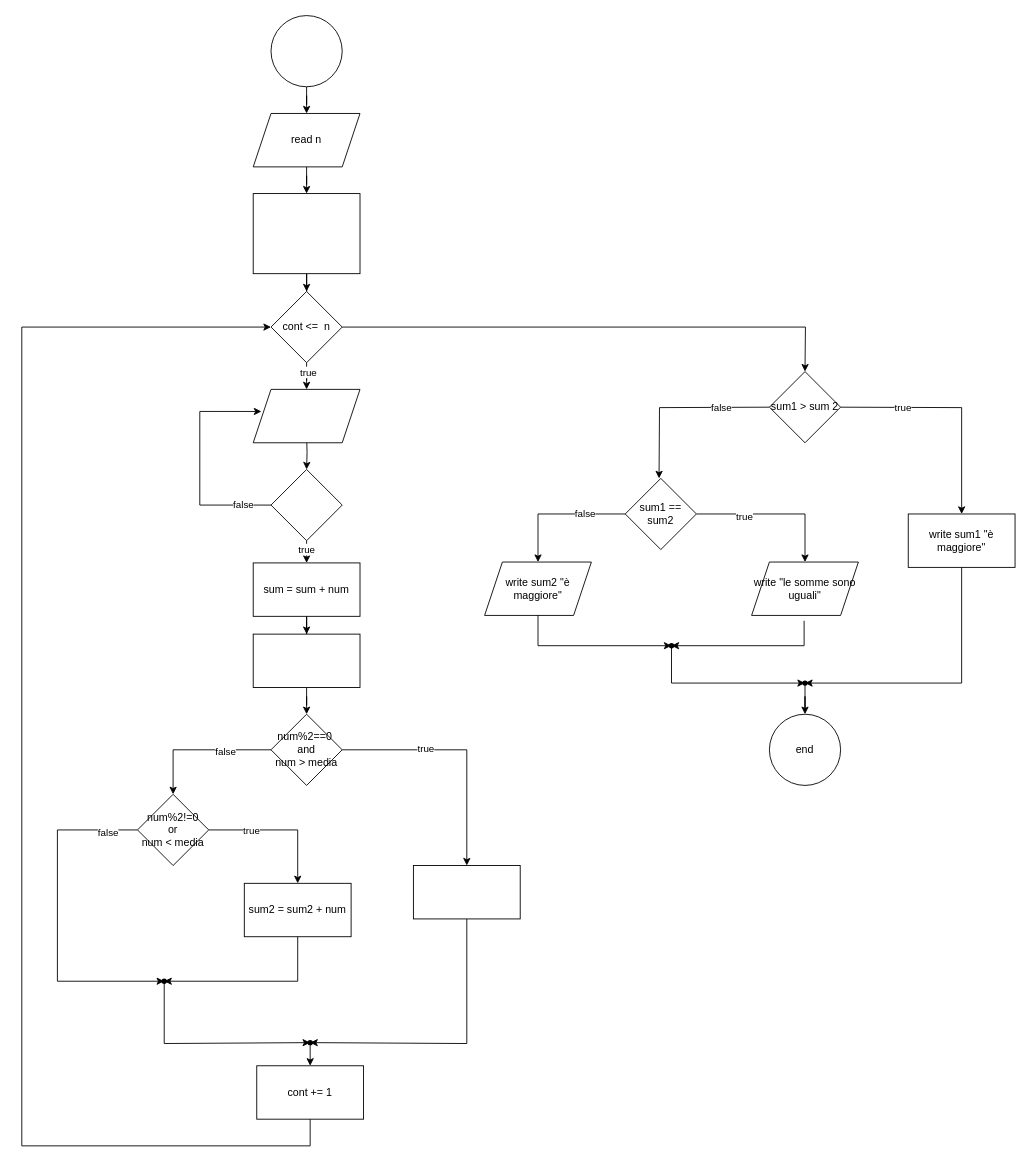
This 1031x1169 diagram has some shape labels left out. The shapes that lost their labels are listed below. From the top down, each one's centre as x and y in pixels, then its label:
point 306,51: start
point 306,233: cont = 1, sum = 0, sum1 = 0, sum2 = 0, media = 1
point 306,415: write num
point 306,505: num%1==0
point 306,660: media = num / cont
point 466,892: sum1 = sum1 + num
